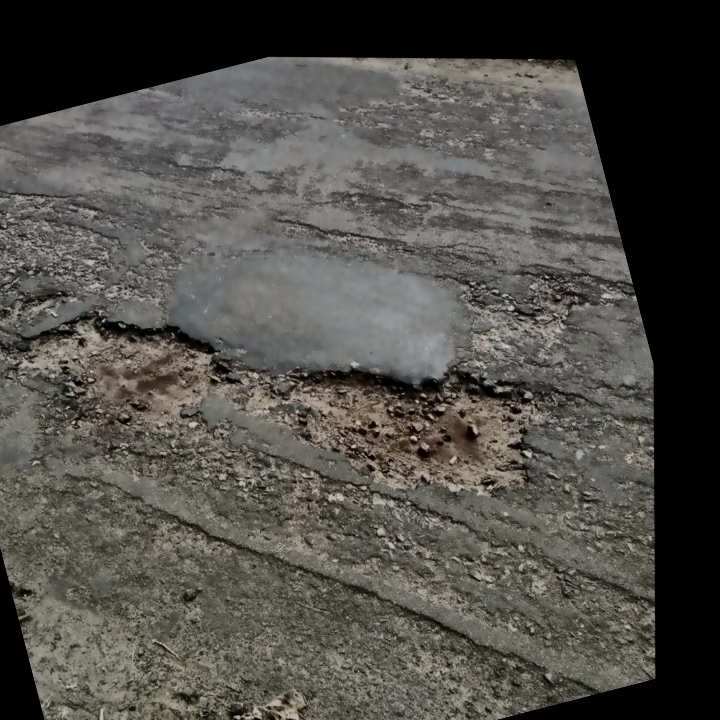pothole: (234, 296, 572, 563), (0, 253, 267, 484)
